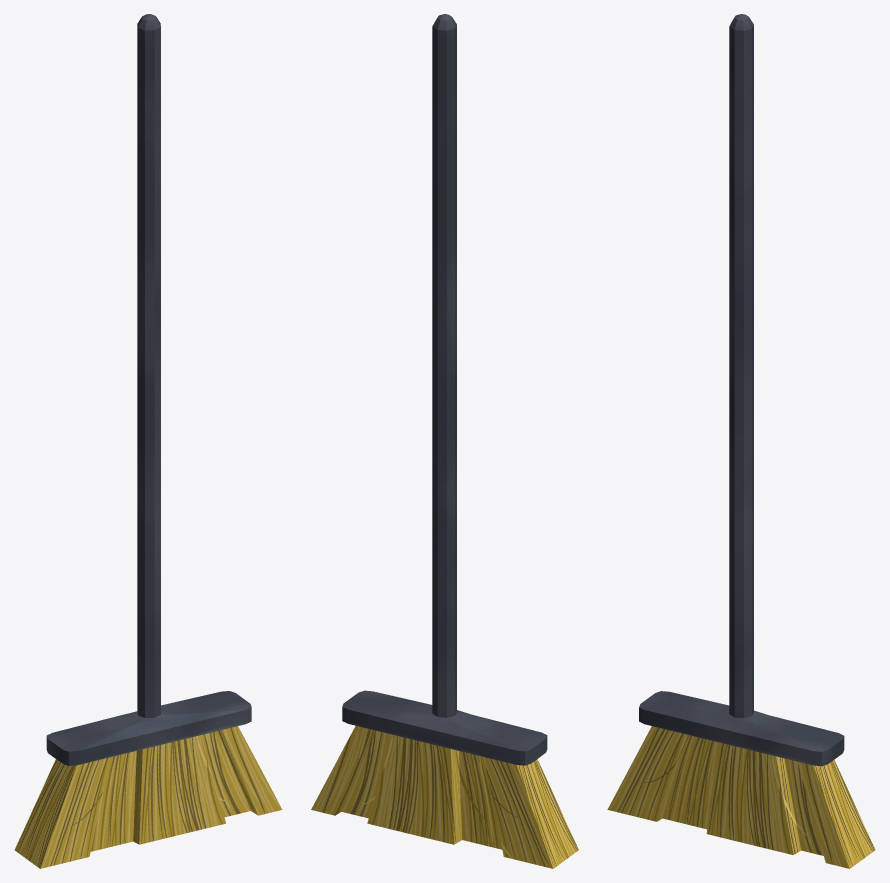
Rendered from Escoba.fbx.
3 renders of one model, left to right at view 1: azimuth 30°, elevation 25°; view 2: azimuth 150°, elevation 25°; view 3: azimuth 330°, elevation 25°, orthographic.
Parts seen in each view (by area): view 1: Palo; view 2: Palo; view 3: Palo.
Boxes of the visible parts, box(x1,y1,x2,y2) form: Palo: box(14, 14, 282, 868); Palo: box(311, 14, 578, 868); Palo: box(607, 14, 875, 868).
Bounding box in the file's own units: 13.16 × 42.29 × 2.42.
